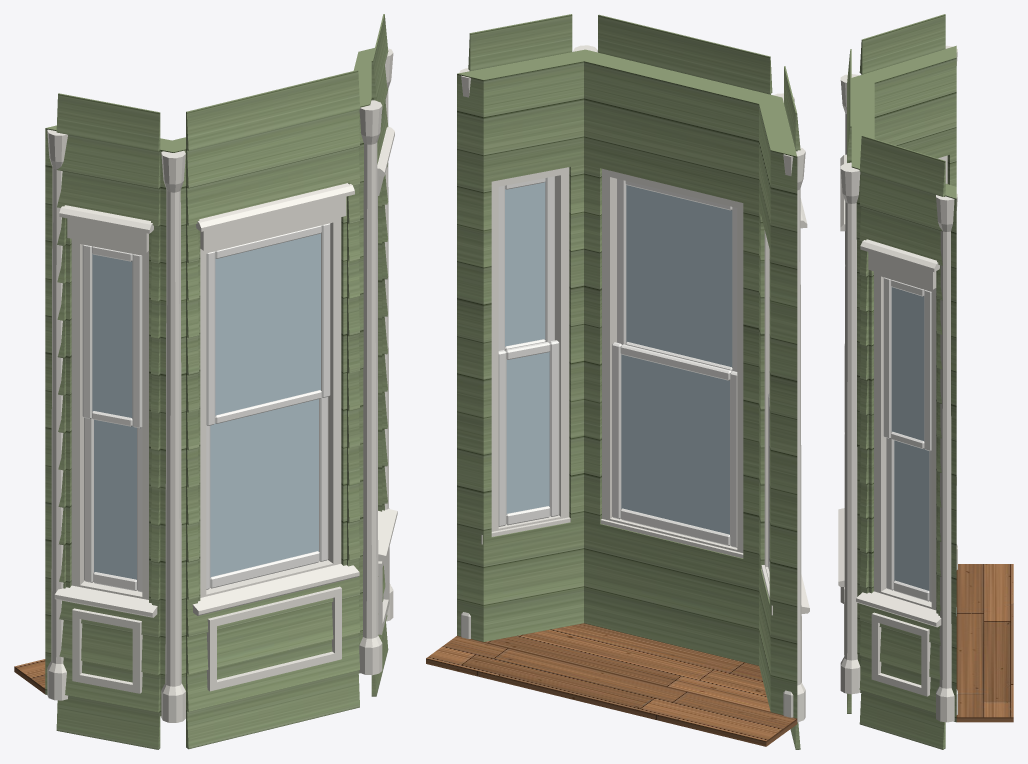
The model's file is bay_g_b.glb.
3 renders of one model, left to right at view 1: azimuth 30°, elevation 25°; view 2: azimuth 150°, elevation 25°; view 3: azimuth 270°, elevation 25°, orthographic. The views are drawn at different scales.
Parts seen in each view (by area): view 1: bay_g_b_siding_b, bay_g_b_trim, bay_g_b_glass, bay_g_b_sash, bay_g_b_frame, bay_g_b_floor; view 2: bay_g_b_siding_b, bay_g_b_glass, bay_g_b_floor, bay_g_b_frame, bay_g_b_sash, bay_g_b_trim; view 3: bay_g_b_siding_b, bay_g_b_trim, bay_g_b_glass, bay_g_b_floor, bay_g_b_frame, bay_g_b_sash.
Part boxes in pixels (x1=…): bay_g_b_siding_b: x1=45, y1=14, x2=388, y2=749; bay_g_b_trim: x1=47, y1=48, x2=397, y2=722; bay_g_b_glass: x1=92, y1=233, x2=320, y2=579; bay_g_b_sash: x1=82, y1=223, x2=330, y2=592; bay_g_b_frame: x1=71, y1=196, x2=377, y2=599; bay_g_b_floor: x1=14, y1=659, x2=45, y2=694; bay_g_b_siding_b: x1=457, y1=14, x2=800, y2=749; bay_g_b_glass: x1=505, y1=182, x2=732, y2=534; bay_g_b_floor: x1=426, y1=623, x2=797, y2=746; bay_g_b_frame: x1=491, y1=167, x2=769, y2=583; bay_g_b_sash: x1=498, y1=176, x2=769, y2=571; bay_g_b_trim: x1=459, y1=45, x2=809, y2=722; bay_g_b_siding_b: x1=847, y1=14, x2=956, y2=749; bay_g_b_trim: x1=838, y1=45, x2=957, y2=722; bay_g_b_glass: x1=891, y1=287, x2=929, y2=590; bay_g_b_floor: x1=956, y1=564, x2=1013, y2=722; bay_g_b_frame: x1=874, y1=155, x2=947, y2=610; bay_g_b_sash: x1=883, y1=277, x2=931, y2=602.
Bounding box in the file's own units: 1.92 × 3.4 × 0.92.
6 materials, 2 textured.
